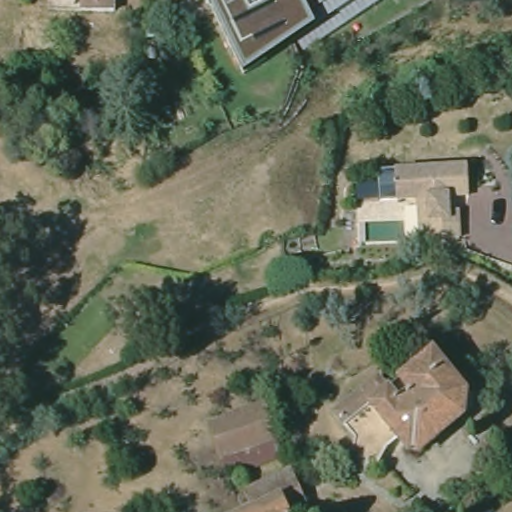pool: (363, 216, 408, 245)
